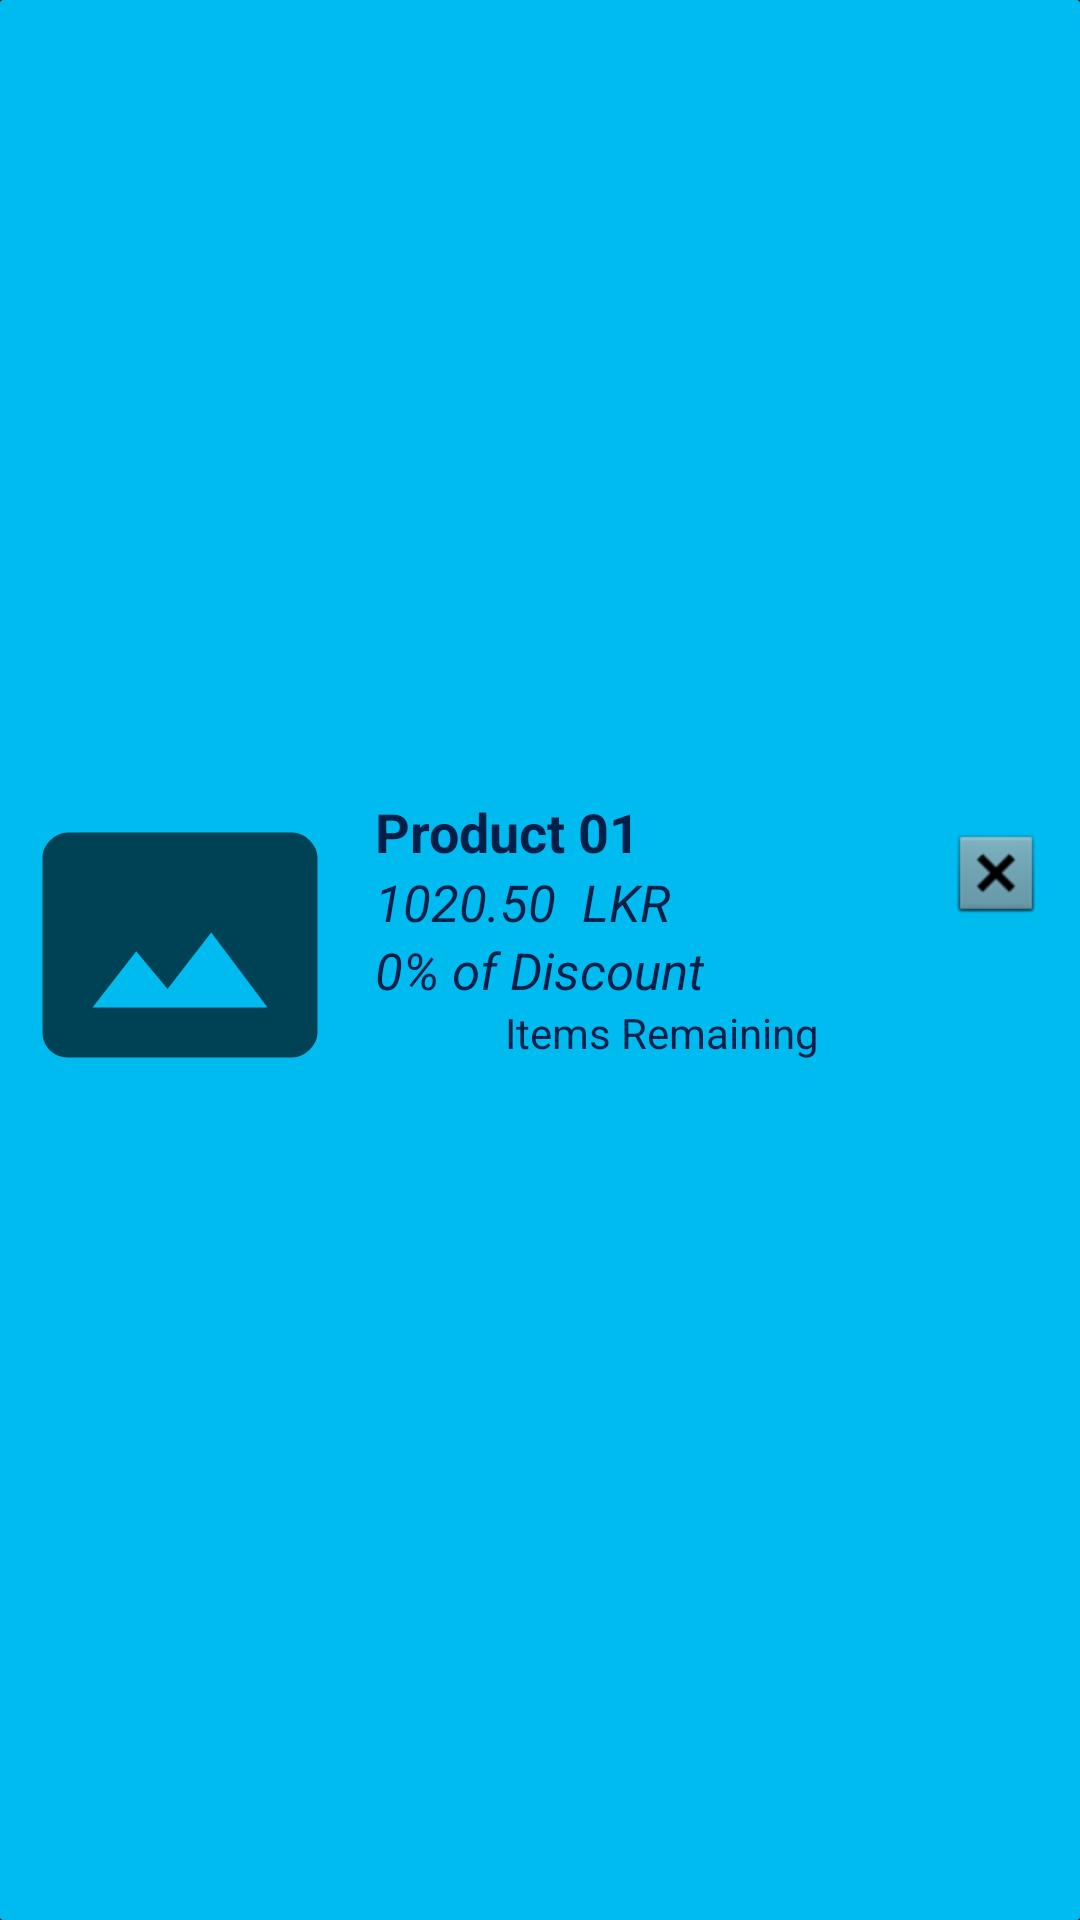

Where to tap for icons on this 1080 × 1920 app screen, as (x=x, y=y):
photo size select actual: (x=180, y=945)
